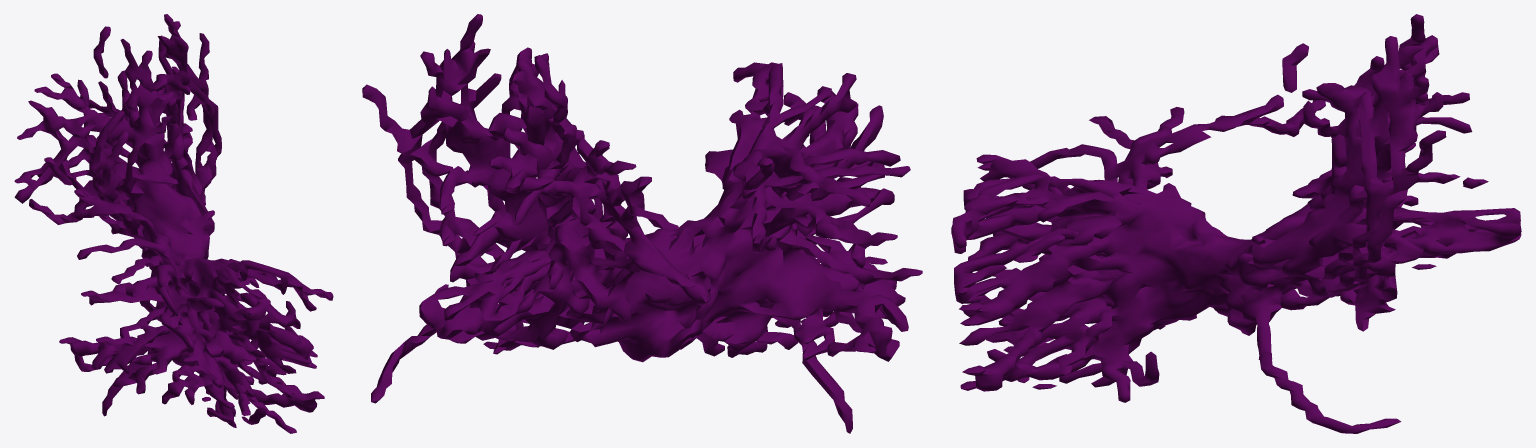
Rendered from Pyramidal_tract.obj.
3 renders of one model, left to right at view 1: azimuth 30°, elevation 25°; view 2: azimuth 150°, elevation 25°; view 3: azimuth 270°, elevation 25°, orthographic. The views are drawn at different scales.
Visible parts, largest first — view 1: grp1; view 2: grp1; view 3: grp1.
Boxes of the visible parts, bbox=[...] form: grp1: bbox=[14, 14, 333, 433]; grp1: bbox=[362, 14, 922, 433]; grp1: bbox=[951, 14, 1521, 433].
Size of the model in its own units: 97.9 by 106 by 141.
